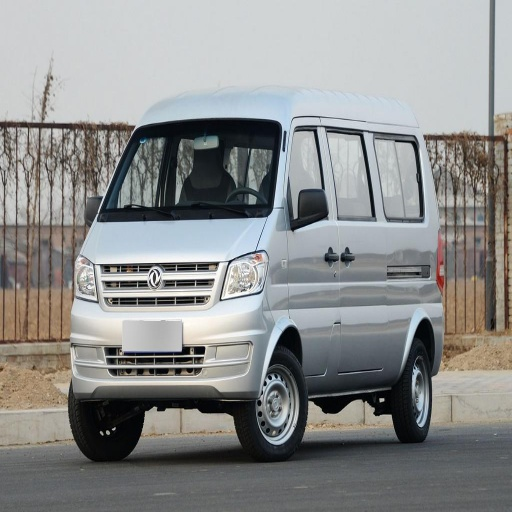front_bumper: (71, 261, 276, 402)
front_glass: (99, 120, 279, 220)
front_left_door: (288, 122, 354, 381)
